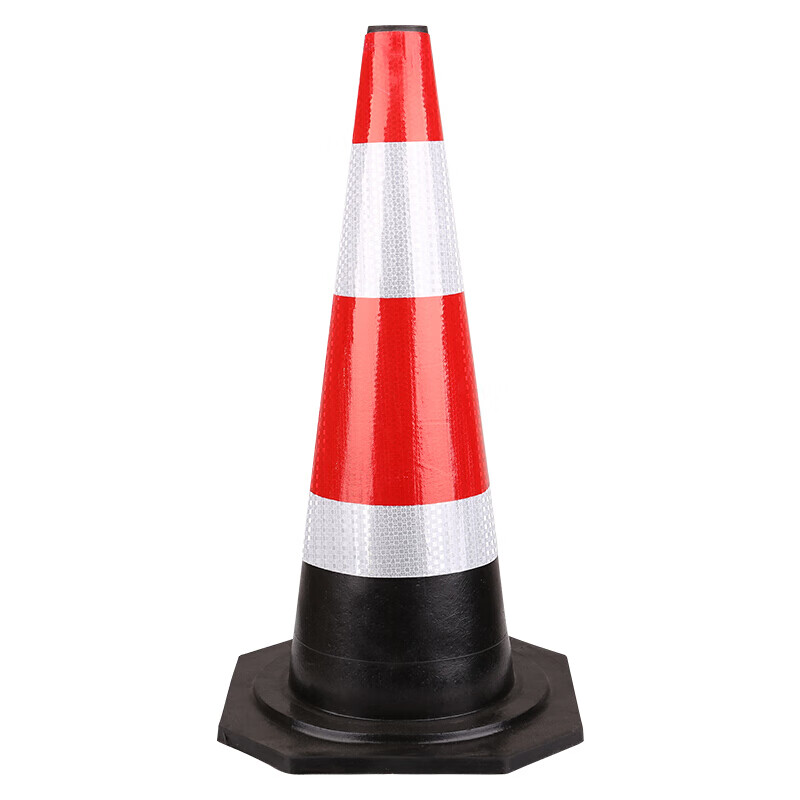traffic_cone: (215, 24, 600, 785)
